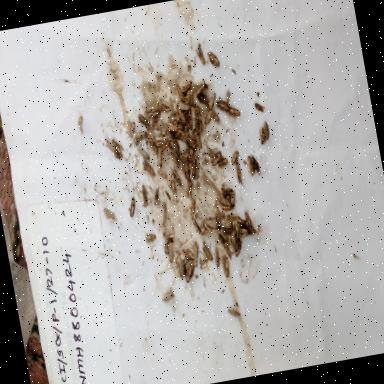pbw: (192, 38, 210, 72), (70, 107, 90, 137), (163, 239, 181, 269), (206, 42, 224, 72), (178, 152, 194, 184), (225, 296, 243, 324), (230, 218, 246, 249), (182, 255, 198, 286), (179, 240, 199, 264), (109, 133, 125, 163), (201, 240, 218, 268), (233, 155, 247, 188), (170, 162, 185, 192), (218, 252, 233, 282), (189, 236, 204, 266), (148, 182, 166, 207), (138, 180, 152, 212), (156, 202, 173, 228), (212, 243, 226, 274), (144, 131, 160, 158), (164, 170, 180, 197), (225, 98, 243, 122), (171, 246, 188, 271), (175, 254, 190, 282), (171, 106, 190, 128), (220, 82, 236, 108), (186, 147, 202, 173), (252, 122, 268, 148), (160, 282, 177, 306), (227, 226, 241, 255), (146, 108, 164, 130), (176, 73, 194, 95), (244, 153, 258, 181), (214, 92, 231, 115), (165, 130, 180, 156), (103, 136, 119, 160), (140, 156, 156, 180), (161, 118, 180, 138), (250, 97, 270, 116), (132, 127, 150, 148), (102, 204, 119, 226), (221, 240, 235, 266), (190, 160, 204, 186), (218, 199, 237, 218), (124, 116, 139, 140), (156, 94, 172, 116), (204, 212, 220, 234), (136, 108, 152, 130), (124, 194, 138, 219), (184, 177, 198, 202), (204, 86, 219, 109), (189, 215, 204, 238), (148, 194, 166, 213), (214, 212, 232, 231), (215, 222, 232, 242), (201, 104, 217, 125), (174, 80, 188, 104), (152, 144, 166, 168), (215, 150, 230, 172), (185, 197, 199, 220), (142, 227, 158, 247), (137, 142, 152, 163), (192, 102, 204, 128), (232, 206, 246, 228), (228, 146, 242, 168), (208, 150, 225, 168), (142, 97, 158, 116), (242, 207, 255, 230), (184, 130, 198, 150), (250, 152, 262, 175), (180, 119, 192, 142), (192, 128, 204, 151), (219, 181, 235, 198), (208, 106, 222, 125), (156, 166, 169, 186), (176, 98, 192, 114), (197, 222, 211, 240), (262, 118, 272, 142), (218, 192, 233, 208), (193, 83, 208, 98), (182, 88, 196, 104), (202, 219, 214, 237), (244, 223, 258, 238), (236, 226, 251, 240), (160, 227, 176, 240), (171, 151, 182, 169), (154, 134, 170, 146), (186, 110, 195, 128)
